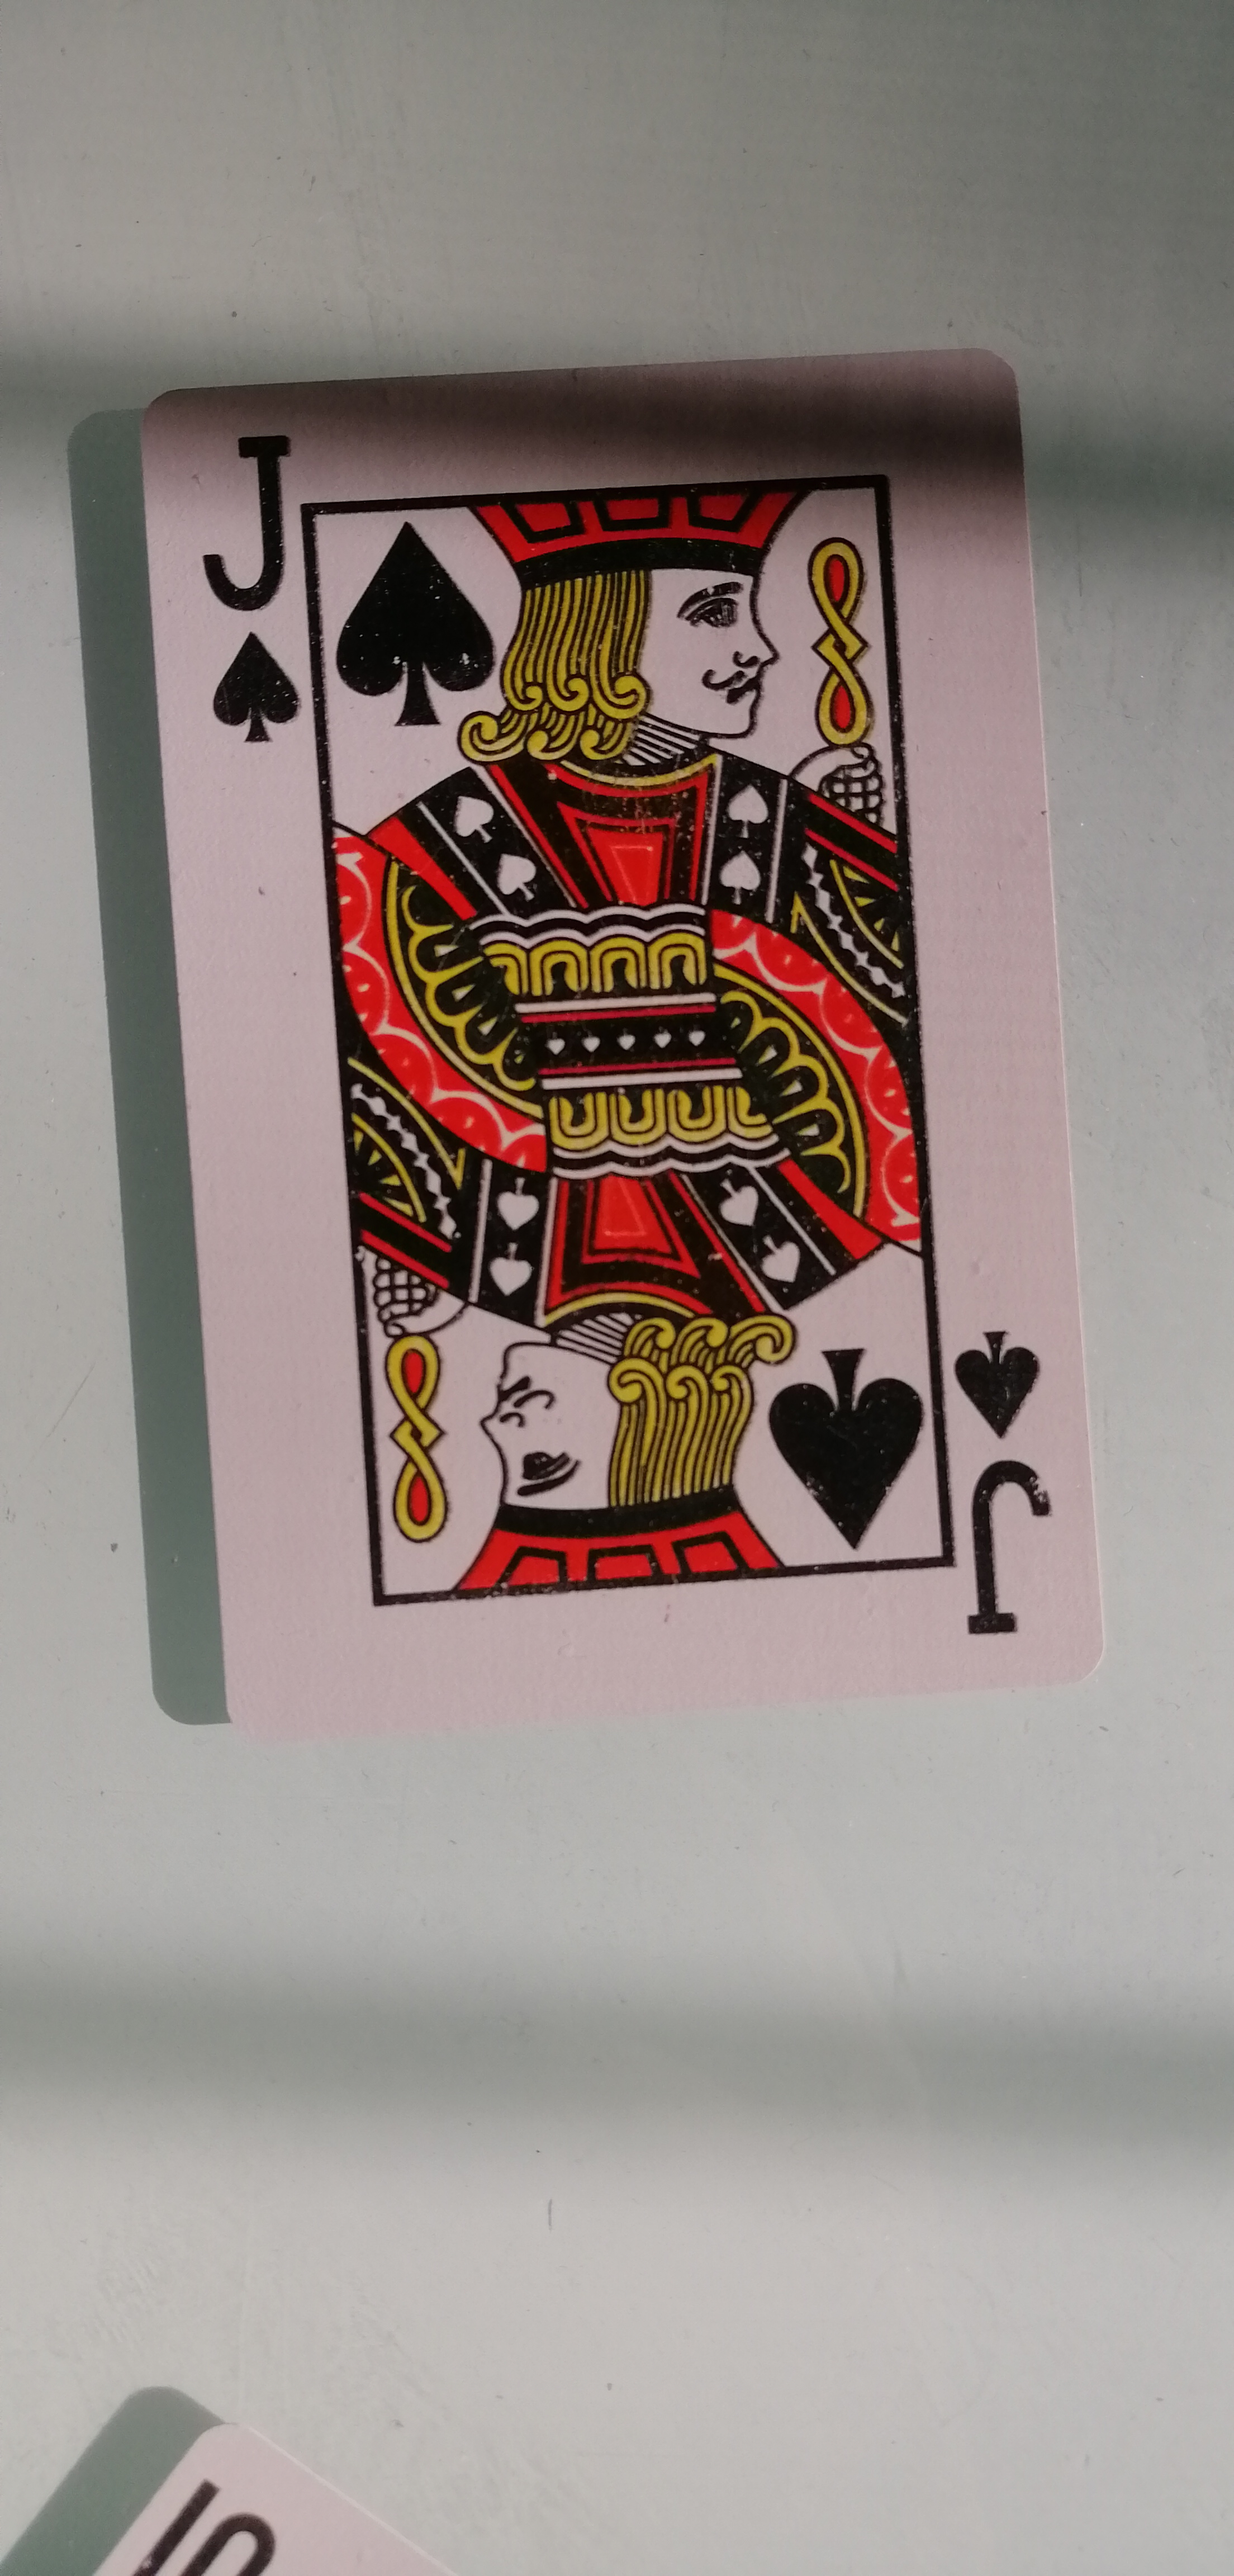jack: (85, 357, 1117, 1737)
